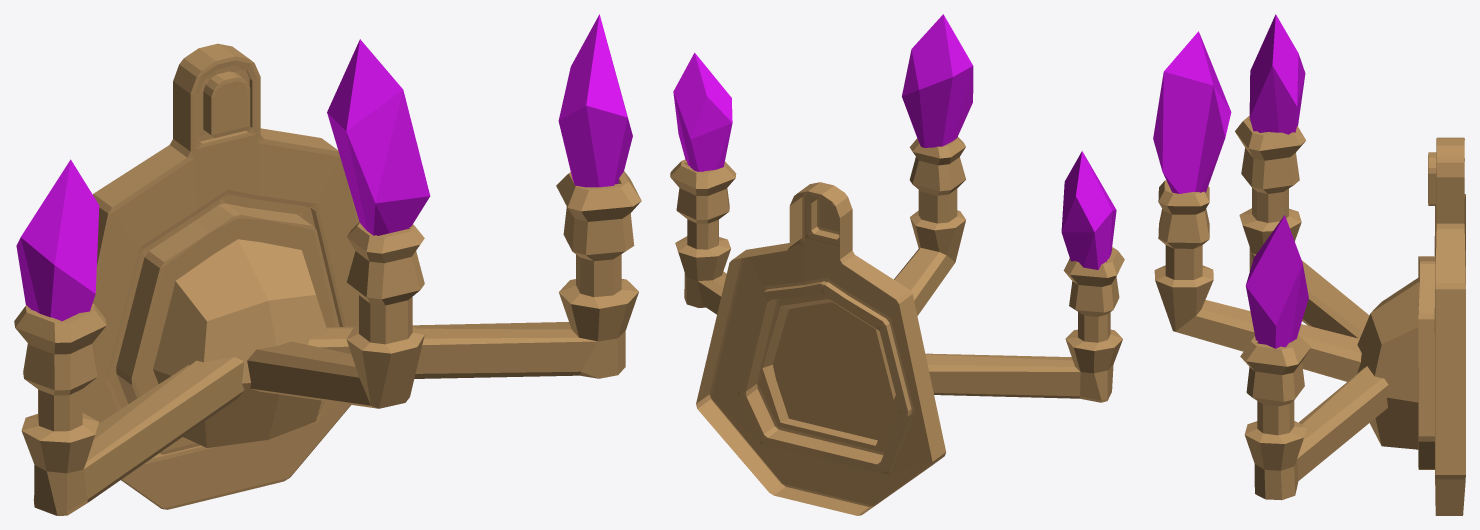
File: Подкристальник.fbx
3 views of the same model, side by side, from view 1: azimuth 30°, elevation 25°; view 2: azimuth 150°, elevation 25°; view 3: azimuth 270°, elevation 25° (orthographic). The views are drawn at different scales.
Parts seen in each view (by area): view 1: Подкристальник, Кристал 3, Кристал 2, Кристал 1; view 2: Подкристальник, Кристал 3, Кристал 1, Кристал 2; view 3: Подкристальник, Кристал 3, Кристал 1, Кристал 2.
Part boxes in pixels (left/top/right/bottom): Подкристальник: left=14, top=43, right=641, bottom=515; Кристал 3: left=327, top=39, right=430, bottom=235; Кристал 2: left=16, top=159, right=99, bottom=321; Кристал 1: left=558, top=14, right=632, bottom=187; Подкристальник: left=670, top=137, right=1124, bottom=515; Кристал 3: left=902, top=14, right=973, bottom=147; Кристал 1: left=673, top=52, right=732, bottom=171; Кристал 2: left=1061, top=151, right=1116, bottom=269; Подкристальник: left=1154, top=116, right=1465, bottom=515; Кристал 3: left=1153, top=31, right=1231, bottom=193; Кристал 1: left=1245, top=215, right=1308, bottom=348; Кристал 2: left=1249, top=14, right=1305, bottom=134.
Bounding box in the file's own units: 762 × 669 × 416.
